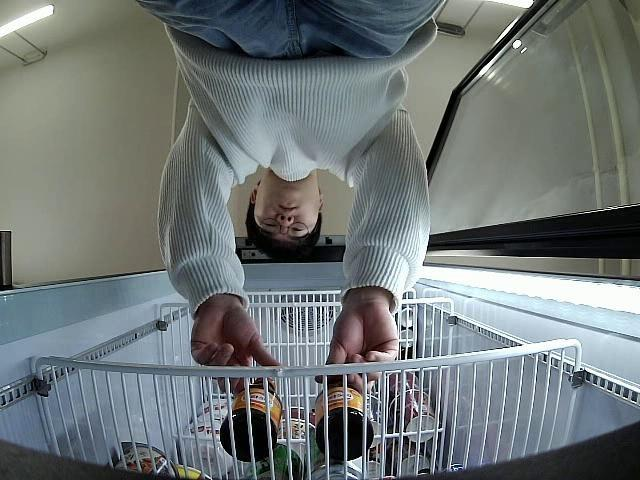17_vita500: (219, 376, 282, 459), (317, 373, 374, 462)
